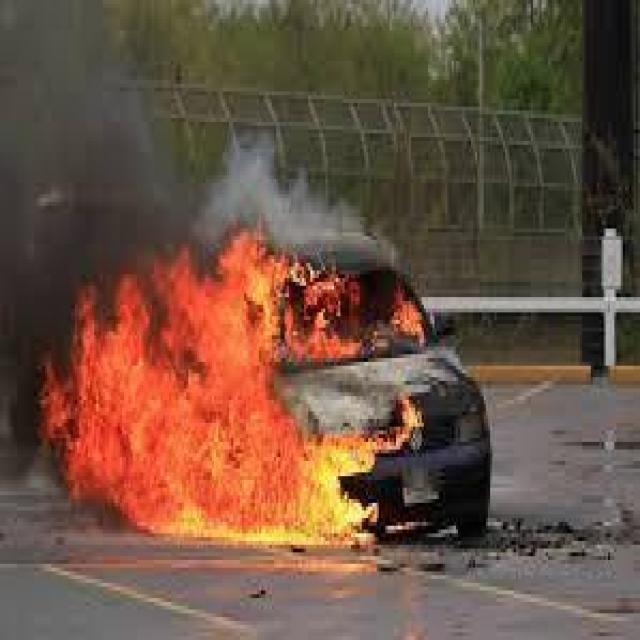fire: (35, 191, 426, 557)
smoke: (1, 7, 164, 279), (224, 161, 317, 233), (1, 291, 61, 376)
